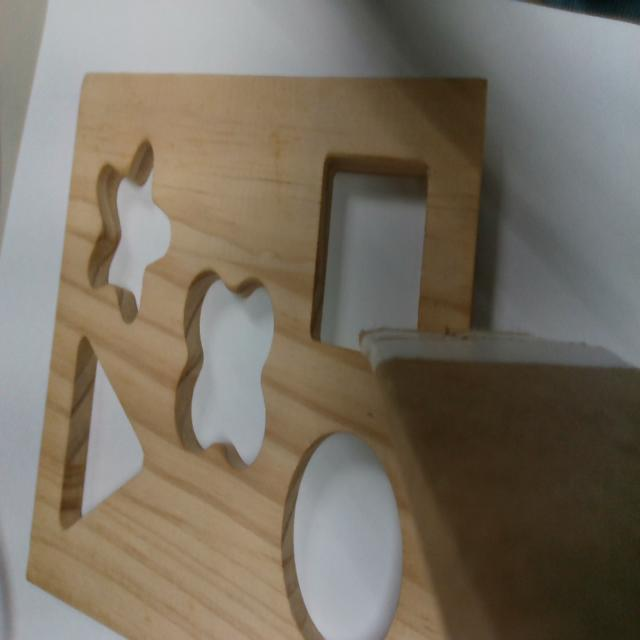circle: (283, 432, 401, 639)
flower: (175, 267, 275, 465)
square: (310, 152, 430, 354)
star: (87, 141, 172, 318)
triangle: (57, 332, 148, 533)
